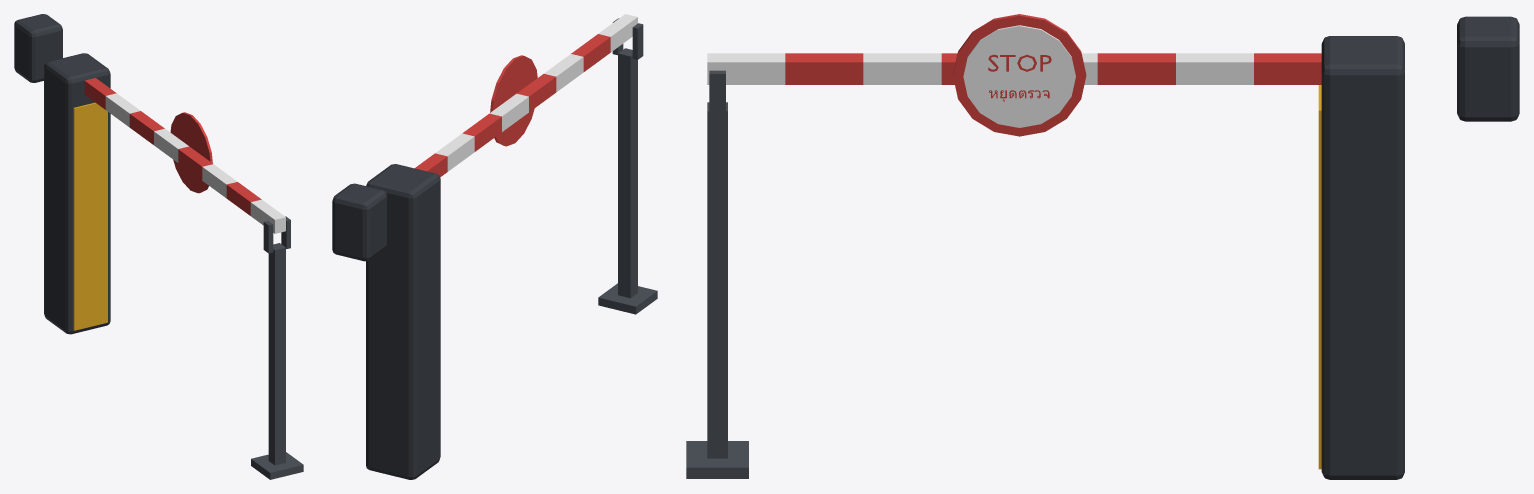
File: gate.glb
3 views of the same model, side by side, from view 1: azimuth 30°, elevation 25°; view 2: azimuth 150°, elevation 25°; view 3: azimuth 270°, elevation 25° (orthographic). The views are drawn at different scales.
Visible parts, largest first — view 1: GateHousing, GateStripe, RestPost, GateWeight, StopSign, RestFoot, BarSeg.007, BarSeg.001, BarSeg.002, BarSeg.003, BarSeg.004, BarSeg.005 (+3 smaller); view 2: GateHousing, RestPost, GateWeight, StopSign, RestFoot, BarSeg.002, BarSeg.006, BarSeg.001, BarSeg.004, BarSeg.005, BarSeg.003, BarSeg.007 (+2 smaller); view 3: GateHousing, StopFace, RestPost, GateWeight, StopSign, BarSeg.002, BarSeg.005, BarSeg.006, BarSeg.001, BarSeg.007, BarSeg, RestFoot (+1 smaller).
Boxes of the visible parts, <box> form: GateHousing: <box>44,53,110,334</box>; GateStripe: <box>73,102,107,330</box>; RestPost: <box>268,243,285,465</box>; GateWeight: <box>14,14,62,82</box>; StopSign: <box>170,112,212,193</box>; RestFoot: <box>251,452,303,479</box>; BarSeg.007: <box>250,199,285,233</box>; BarSeg.001: <box>105,93,140,127</box>; BarSeg.002: <box>129,111,164,144</box>; BarSeg.003: <box>154,129,188,162</box>; BarSeg.004: <box>178,146,212,180</box>; BarSeg.005: <box>202,164,237,198</box>; GateHousing: <box>366,164,440,479</box>; RestPost: <box>618,48,637,298</box>; GateWeight: <box>332,183,386,261</box>; StopSign: <box>490,55,537,146</box>; RestFoot: <box>598,283,657,314</box>; BarSeg.002: <box>462,113,501,151</box>; BarSeg.006: <box>571,34,610,71</box>; BarSeg.001: <box>435,133,474,171</box>; BarSeg.004: <box>517,74,556,112</box>; BarSeg.005: <box>544,54,583,91</box>; BarSeg.003: <box>489,93,528,131</box>; BarSeg.007: <box>598,14,637,52</box>; GateHousing: <box>1321,36,1404,479</box>; StopFace: <box>963,25,1075,127</box>; RestPost: <box>707,102,727,458</box>; GateWeight: <box>1457,16,1519,121</box>; StopSign: <box>953,14,1086,136</box>; BarSeg.002: <box>1097,53,1175,84</box>; BarSeg.005: <box>863,53,941,84</box>; BarSeg.006: <box>785,53,863,84</box>; BarSeg.001: <box>1176,53,1253,84</box>; BarSeg.007: <box>707,53,785,84</box>; BarSeg: <box>1254,53,1321,84</box>; RestFoot: <box>686,441,748,478</box>.
Size of the model in its own units: 0.4 by 2.42 by 4.
